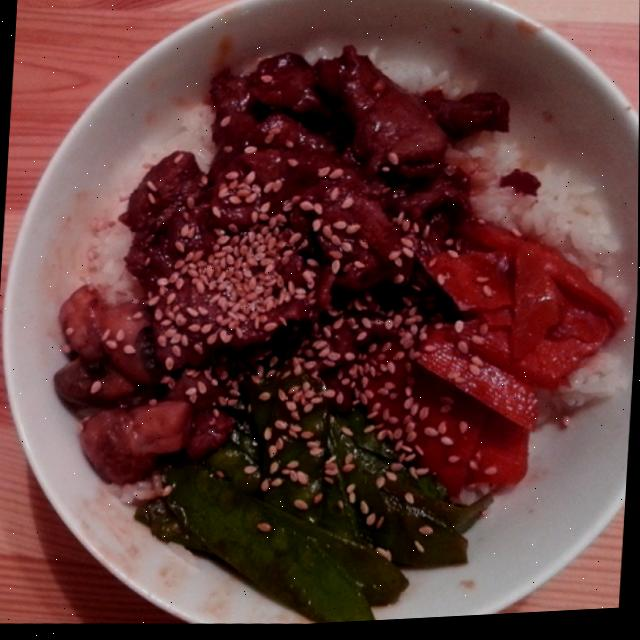牛肉菜式: (11, 0, 640, 639)
